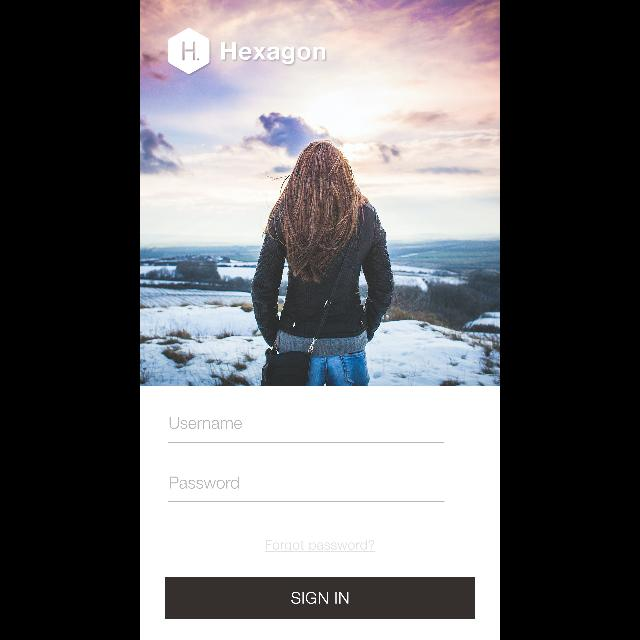image: (140, 1, 500, 386), (168, 28, 210, 74)
input: (168, 417, 446, 443), (168, 476, 446, 502)
text: (222, 42, 326, 66), (264, 540, 376, 552), (170, 476, 240, 489), (170, 417, 242, 429)
textbutton: (164, 577, 476, 619)
